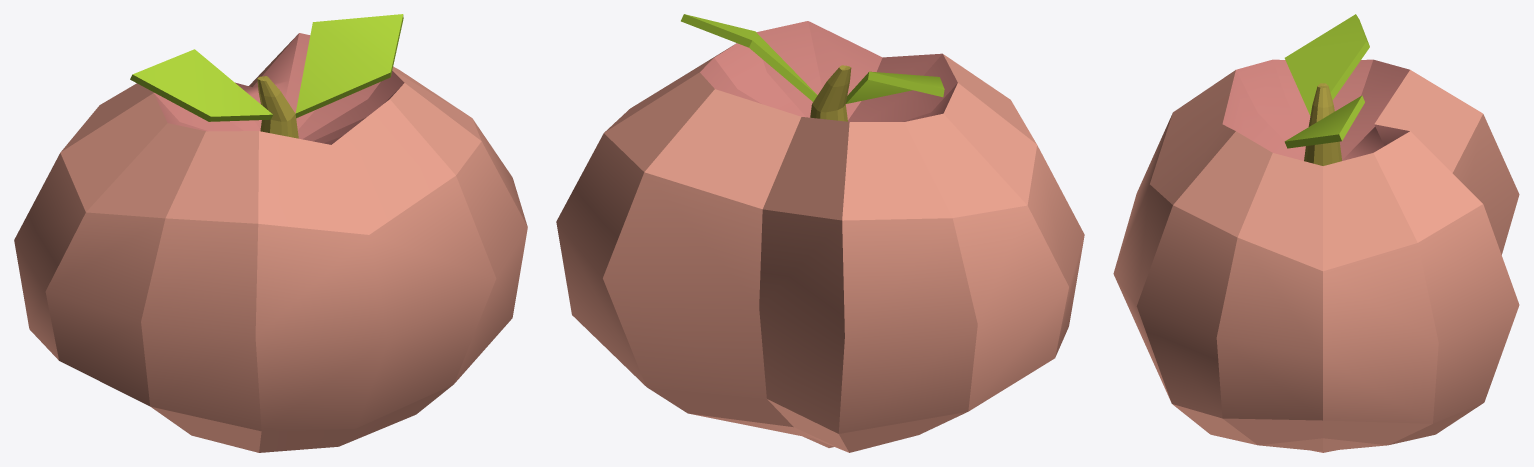
File: Pessego_Ana_Colorido.fbx
3 renders of one model, left to right at view 1: azimuth 30°, elevation 25°; view 2: azimuth 150°, elevation 25°; view 3: azimuth 270°, elevation 25°, orthographic. The views are drawn at different scales.
Parts seen in each view (by area): view 1: Pessego, Folha1_pessego, Folha2_pessego, Cabinho_pessego; view 2: Pessego, Folha1_pessego, Folha2_pessego, Cabinho_pessego; view 3: Pessego, Folha2_pessego, Folha1_pessego, Cabinho_pessego.
Part boxes in pixels (bbox=[...]): Pessego: bbox=[14, 33, 527, 452]; Folha1_pessego: bbox=[295, 14, 403, 118]; Folha2_pessego: bbox=[130, 49, 272, 121]; Cabinho_pessego: bbox=[257, 76, 298, 138]; Pessego: bbox=[556, 21, 1084, 452]; Folha1_pessego: bbox=[681, 14, 817, 101]; Folha2_pessego: bbox=[846, 71, 944, 103]; Cabinho_pessego: bbox=[810, 65, 851, 121]; Pessego: bbox=[1113, 59, 1519, 452]; Folha2_pessego: bbox=[1284, 14, 1369, 115]; Folha1_pessego: bbox=[1284, 95, 1364, 148]; Cabinho_pessego: bbox=[1304, 83, 1341, 165].
Bounding box in the file's own units: 258 × 210 × 202.
